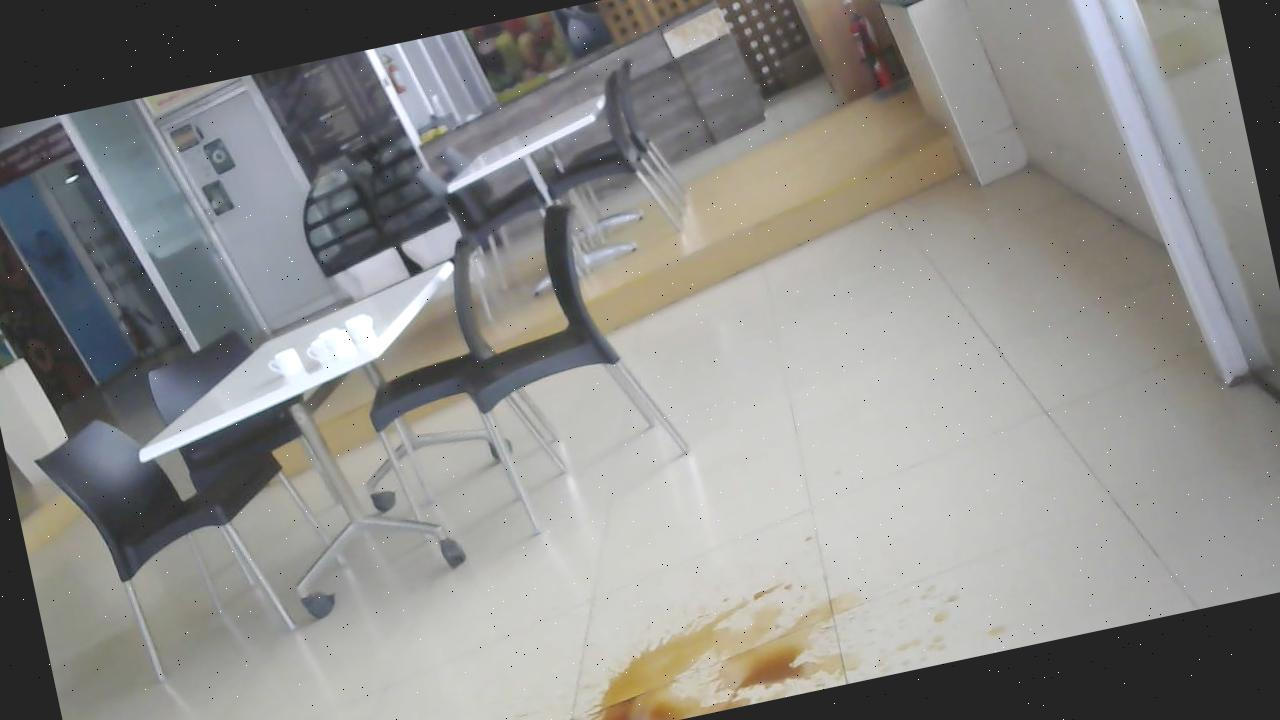dirty_floor: (539, 556, 914, 720)
